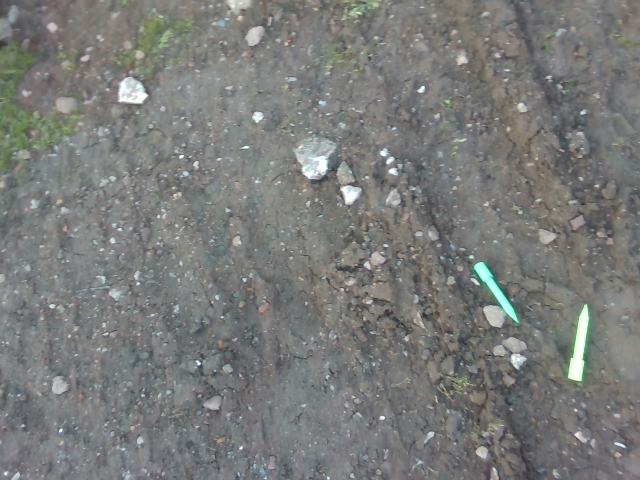Probe: (471, 260, 524, 326), (566, 298, 596, 385)
